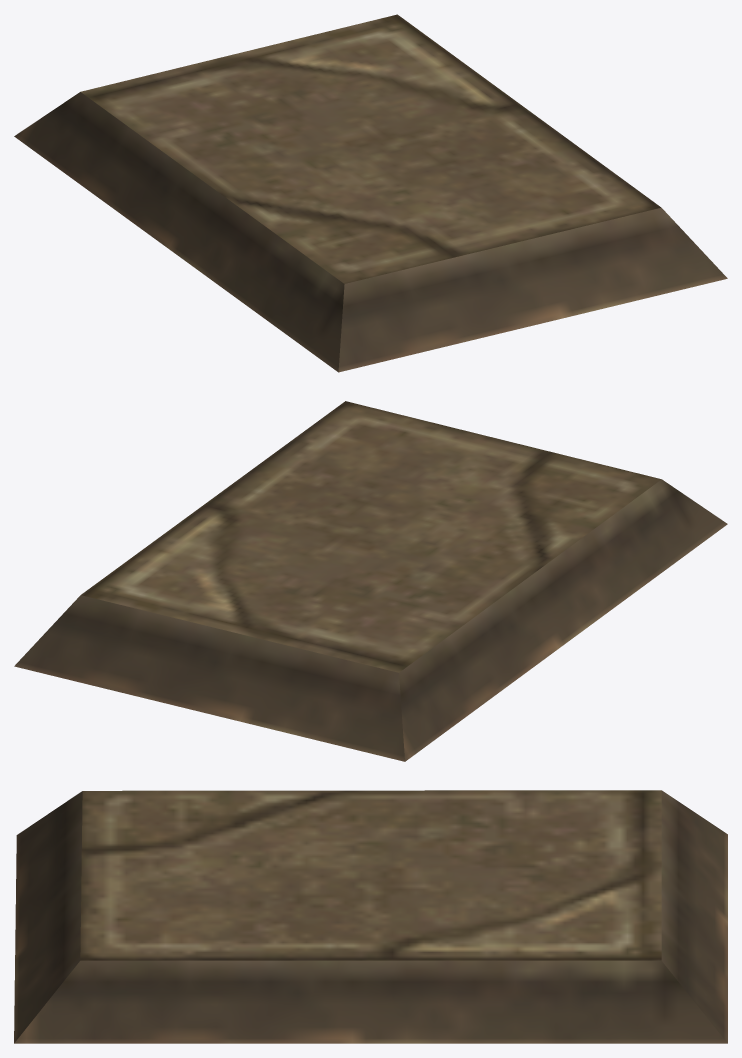
Rendered from A_dizhuan_005.fbx.
3 renders of one model, top to bottom at view 1: azimuth 30°, elevation 25°; view 2: azimuth 150°, elevation 25°; view 3: azimuth 270°, elevation 25°, orthographic. The views are drawn at different scales.
Parts seen in each view (by area): view 1: A_dizhuan_005; view 2: A_dizhuan_005; view 3: A_dizhuan_005.
Boxes of the visible parts, bbox=[...] form: A_dizhuan_005: bbox=[14, 14, 727, 372]; A_dizhuan_005: bbox=[14, 401, 727, 761]; A_dizhuan_005: bbox=[14, 790, 727, 1043].
Size of the model in its own units: 30.95 by 4.39 by 44.6.
